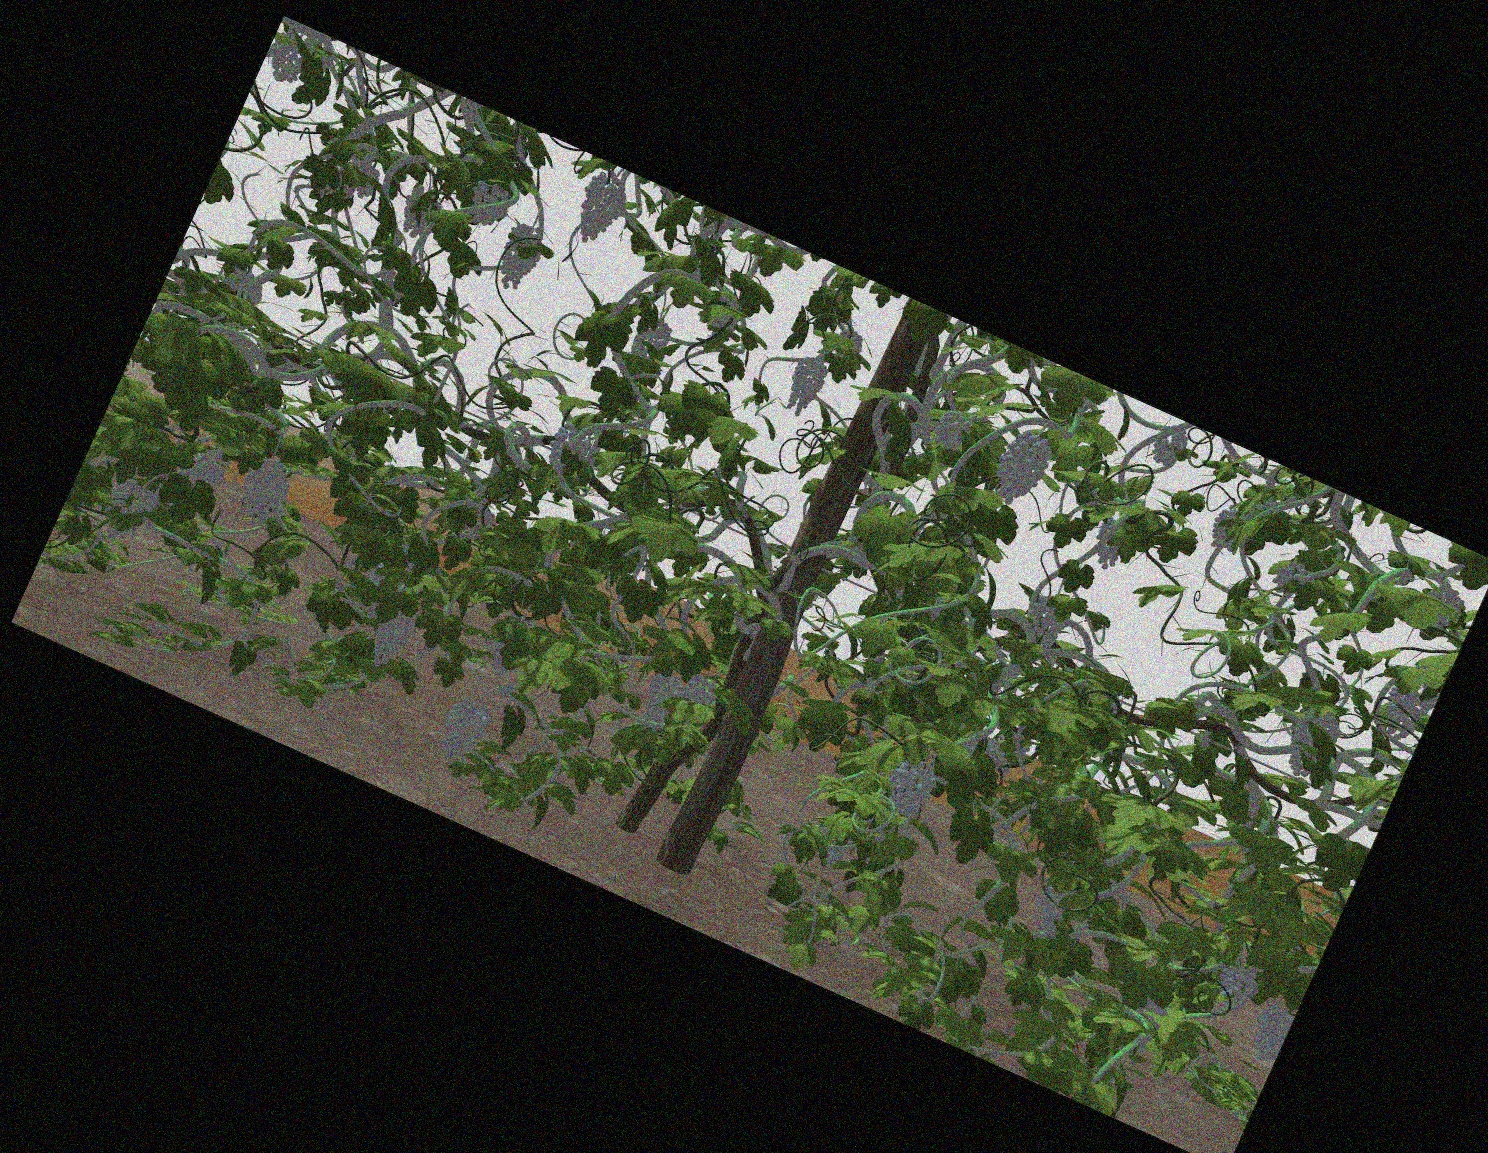grape: (998, 426, 1046, 503), (106, 481, 150, 545), (243, 461, 287, 520), (581, 176, 620, 243), (1290, 712, 1330, 776), (443, 703, 479, 769), (893, 758, 932, 819), (501, 227, 539, 289), (1219, 961, 1256, 1015), (1381, 687, 1418, 740), (376, 610, 409, 668), (1027, 596, 1066, 645), (787, 359, 820, 417), (1252, 1002, 1284, 1060), (550, 426, 587, 473), (1035, 889, 1071, 937), (469, 185, 508, 227), (271, 36, 306, 82), (646, 676, 678, 727), (635, 318, 668, 363), (190, 453, 226, 489), (1152, 429, 1182, 467), (934, 413, 966, 448), (1275, 559, 1310, 592), (684, 676, 717, 707)
